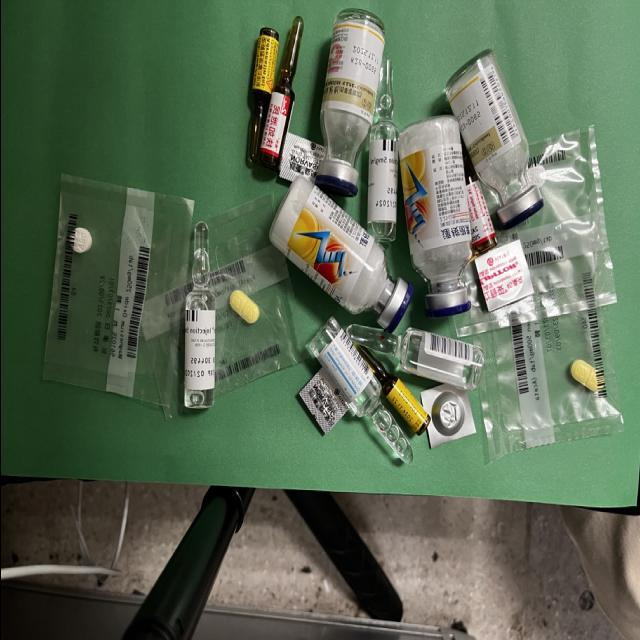Ampoules: (308, 318, 412, 463), (345, 325, 482, 389), (258, 17, 302, 173), (356, 346, 430, 434), (366, 51, 397, 243), (183, 222, 214, 408), (246, 27, 278, 163), (464, 156, 496, 257)
Vials: (269, 178, 412, 332), (444, 51, 543, 230), (398, 116, 471, 318), (314, 9, 384, 197)
